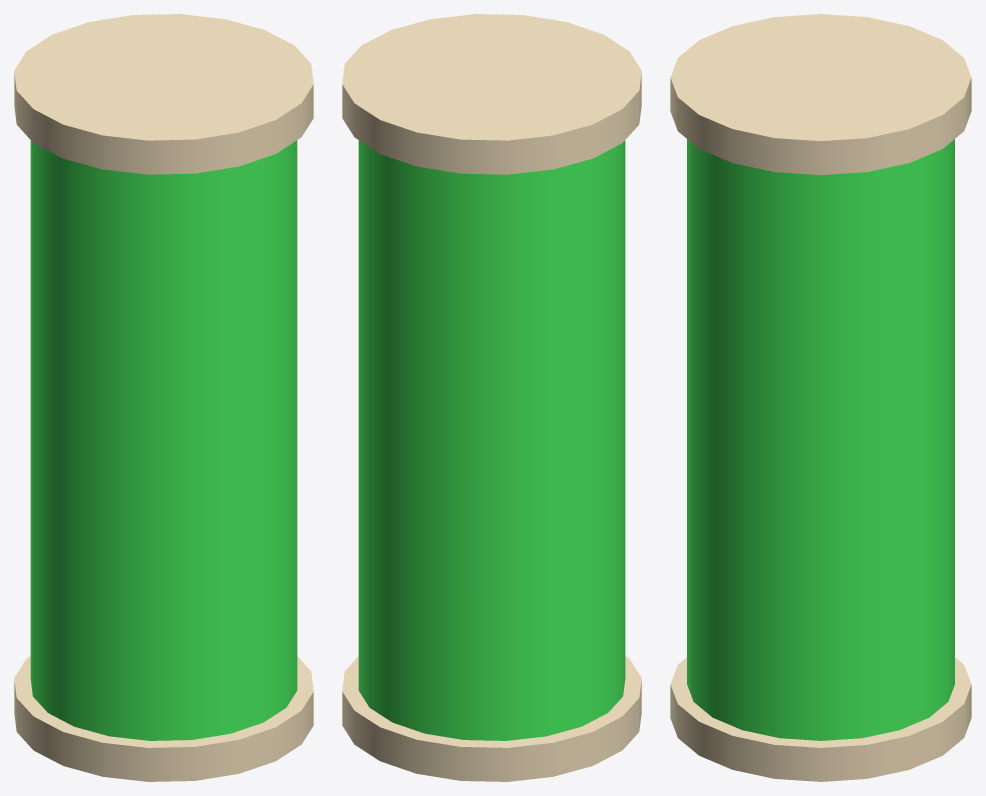
File: PushableObject 4.fbx
3 views of the same model, side by side, from view 1: azimuth 30°, elevation 25°; view 2: azimuth 150°, elevation 25°; view 3: azimuth 270°, elevation 25° (orthographic).
Visible parts, largest first — view 1: PushableObject_1, PushableObject_2, PushableObject_3; view 2: PushableObject_1, PushableObject_2, PushableObject_3; view 3: PushableObject_1, PushableObject_2, PushableObject_3.
Boxes of the visible parts, box(x1,y1,x2,y2) form: PushableObject_1: box(30, 140, 297, 740); PushableObject_2: box(14, 14, 313, 174); PushableObject_3: box(14, 656, 313, 781); PushableObject_1: box(358, 140, 625, 740); PushableObject_2: box(342, 14, 641, 174); PushableObject_3: box(342, 656, 641, 781); PushableObject_1: box(687, 139, 954, 740); PushableObject_2: box(670, 14, 971, 175); PushableObject_3: box(670, 657, 971, 781).
Size of the model in its own units: 155 by 363 by 155.
